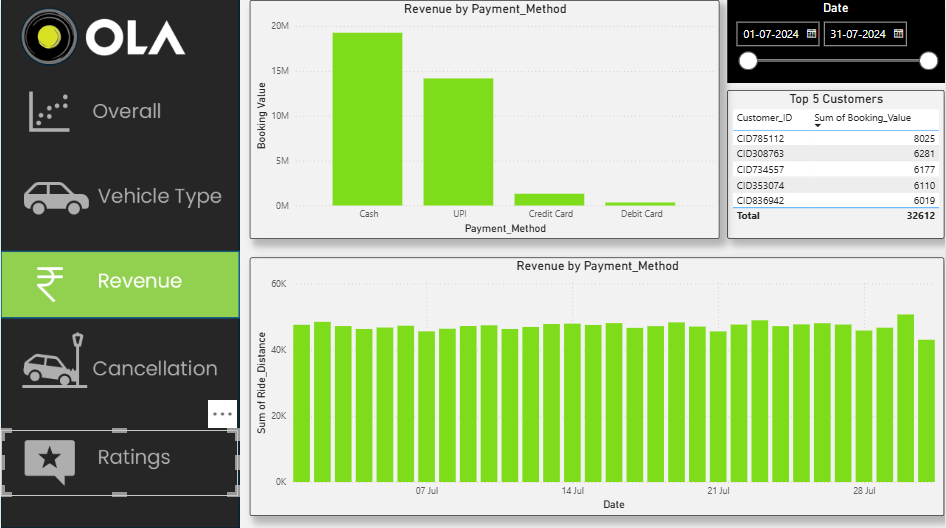

This screenshot's page, from the dashboard's own definition file:
{"tool":"powerbi","page":{"name":"Revenue","canvas":[1280,720],"ordinal":2},"visuals":[{"type":"actionButton","box":[1.1,108.3,322.7,90.4],"z":0},{"type":"actionButton","box":[0,232.3,322.7,90.4],"z":1000},{"type":"actionButton","box":[0,447.8,322.7,90.4],"z":2000},{"type":"actionButton","box":[0,582.9,322.7,90.4],"z":3000},{"type":"columnChart","title":"Revenue by Payment_Method","fields":{"Y":["Sum(Bookings-100000-Rows.Booking_Value)"],"Category":["Bookings-100000-Rows.Payment_Method"]},"box":[337.1,0,637.1,324.3],"z":4000},{"type":"columnChart","title":"Revenue by Payment_Method","fields":{"Y":["Sum(Bookings-100000-Rows.Ride_Distance)"],"Category":["Bookings-100000-Rows.Date"]},"box":[337.5,348.6,941.7,350],"z":5000},{"type":"slicer","title":"Date","fields":{"Values":["Bookings-100000-Rows.Date"]},"box":[984.3,0,294.3,111.4],"z":6000},{"type":"tableEx","title":"Top 5 Customers","fields":{"Values":["Bookings-100000-Rows.Customer_ID","Sum(Bookings-100000-Rows.Booking_Value)"]},"box":[984.3,122.9,294.3,201.4],"z":7000}]}

Visuals, with their boxes in screenshot pixels (x1, y1, x2, y2), scaled from the page's 1280x720 canvas onto the 946x528 screenshot:
actionButton: box(1, 79, 239, 146)
actionButton: box(0, 170, 238, 237)
actionButton: box(0, 328, 238, 395)
actionButton: box(0, 427, 238, 494)
"Revenue by Payment_Method" columnChart: box(249, 0, 720, 238)
"Revenue by Payment_Method" columnChart: box(249, 256, 945, 512)
"Date" slicer: box(727, 0, 945, 82)
"Top 5 Customers" tableEx: box(727, 90, 945, 238)
